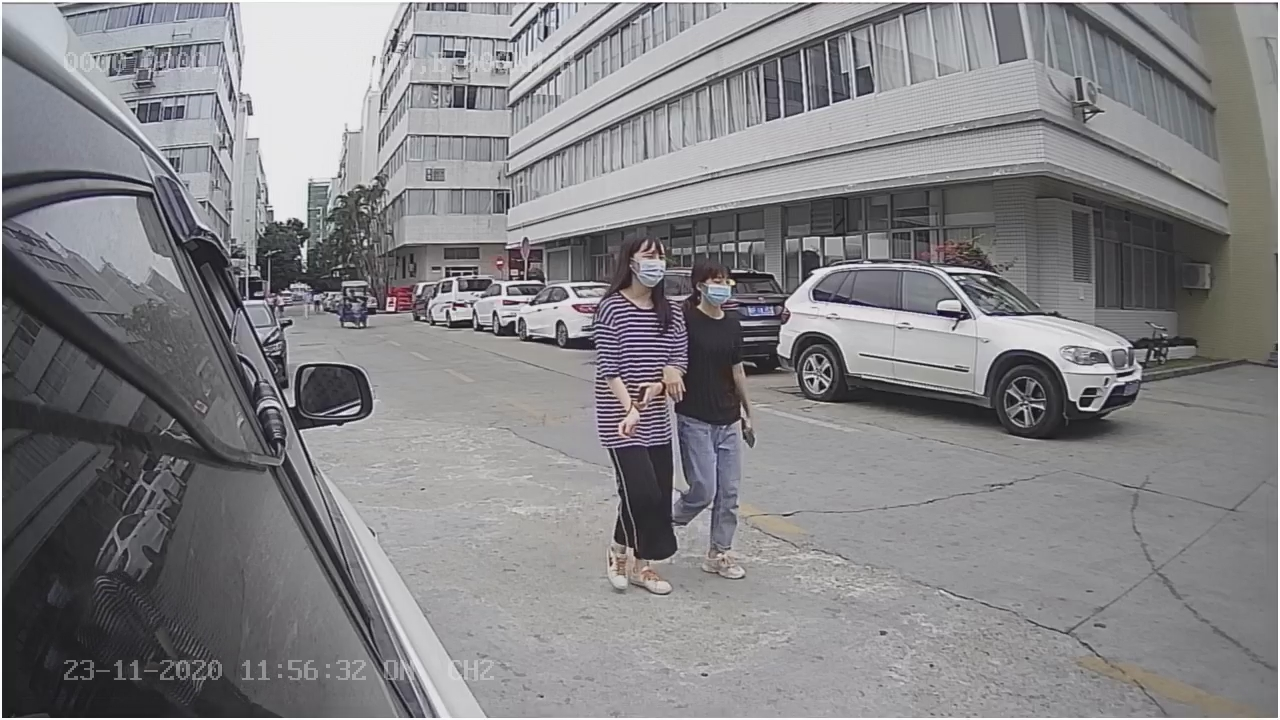person: (591, 228, 686, 602), (667, 257, 759, 586)
